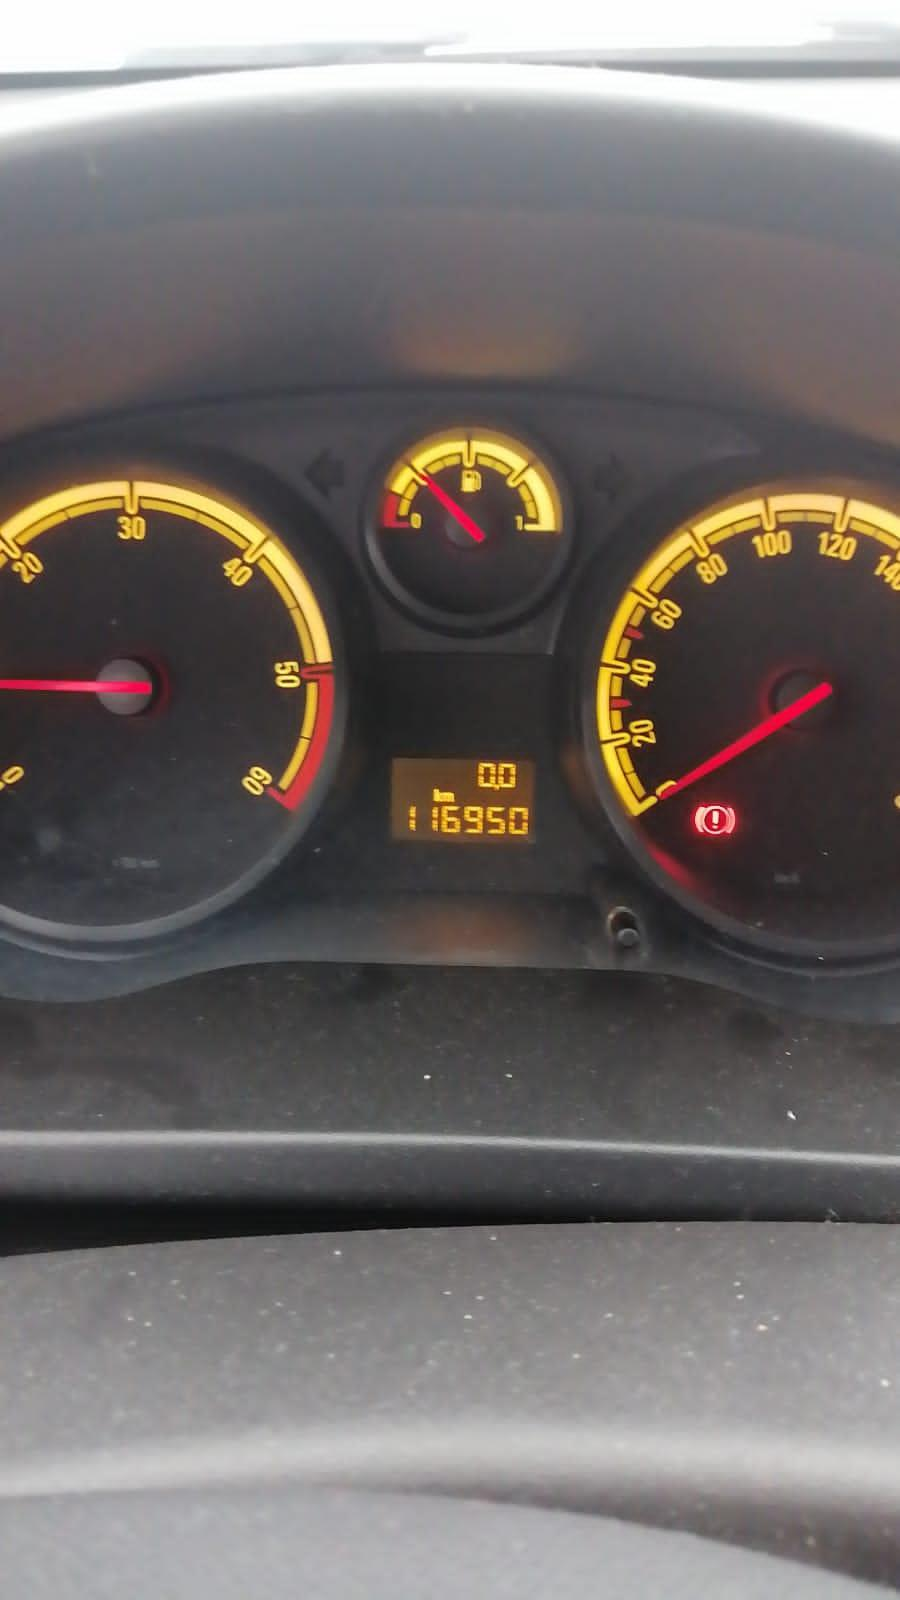,: (493, 784, 501, 791)
0: (508, 805, 529, 835), (497, 762, 516, 788), (477, 762, 496, 788)
1: (408, 804, 416, 832), (431, 805, 438, 832)
5: (485, 805, 505, 835)
6: (440, 805, 462, 833)
9: (463, 805, 484, 834)
X: (441, 791, 455, 802), (432, 787, 442, 802)
odometer: (386, 755, 538, 845)
